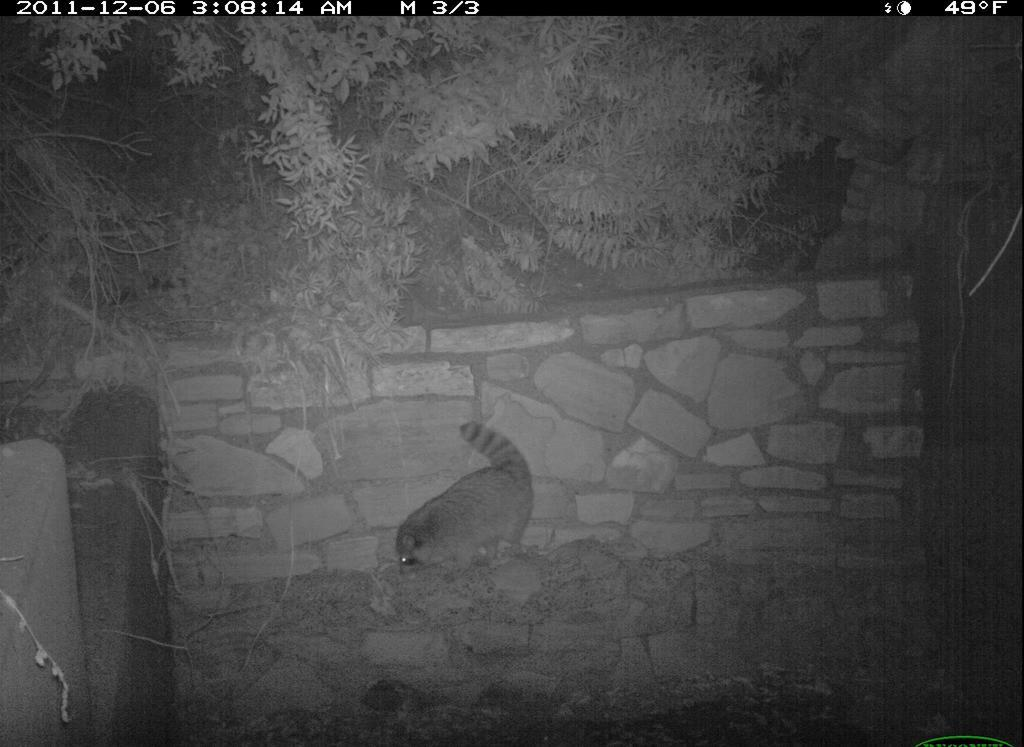raccoon: (373, 415, 557, 587)
